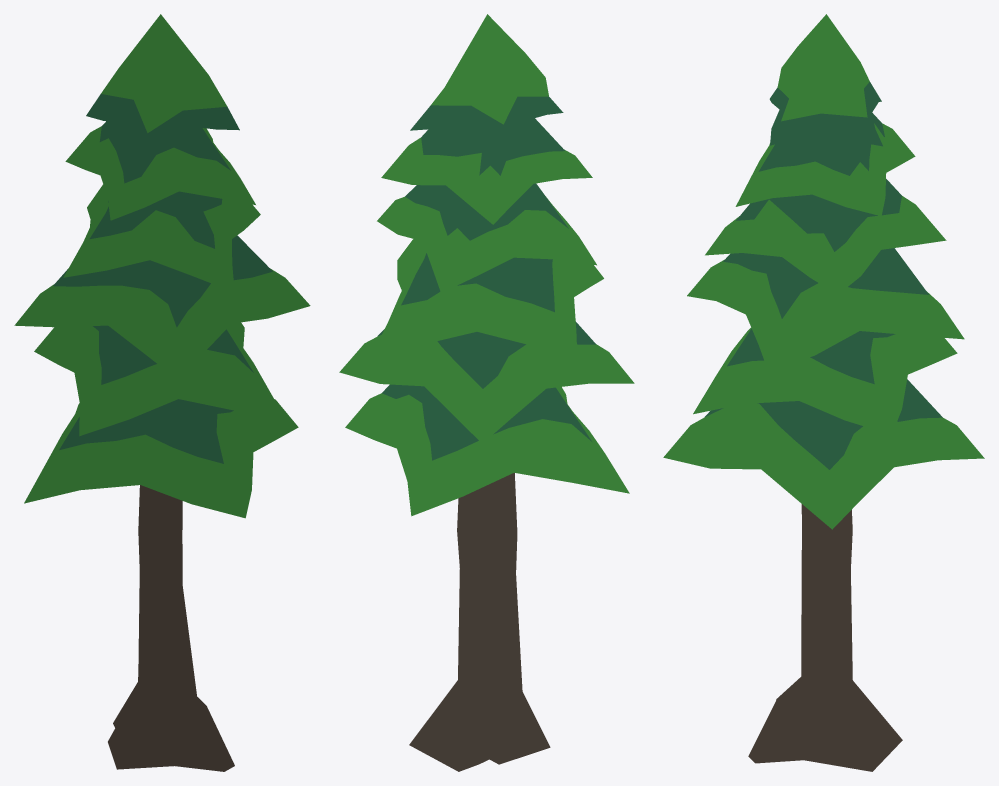
Rendered from pine_tall_01.dae.
3 renders of one model, left to right at view 1: azimuth 30°, elevation 25°; view 2: azimuth 150°, elevation 25°; view 3: azimuth 270°, elevation 25°, orthographic.
Visible parts, largest first — view 1: pine_tall_01-0; view 2: pine_tall_01-0; view 3: pine_tall_01-0.
Part boxes in pixels (left/top/right/bottom): pine_tall_01-0: left=14, top=14, right=310, bottom=771; pine_tall_01-0: left=339, top=14, right=634, bottom=771; pine_tall_01-0: left=663, top=14, right=984, bottom=771.
Size of the model in its own units: 5.69 by 14.21 by 5.67.
